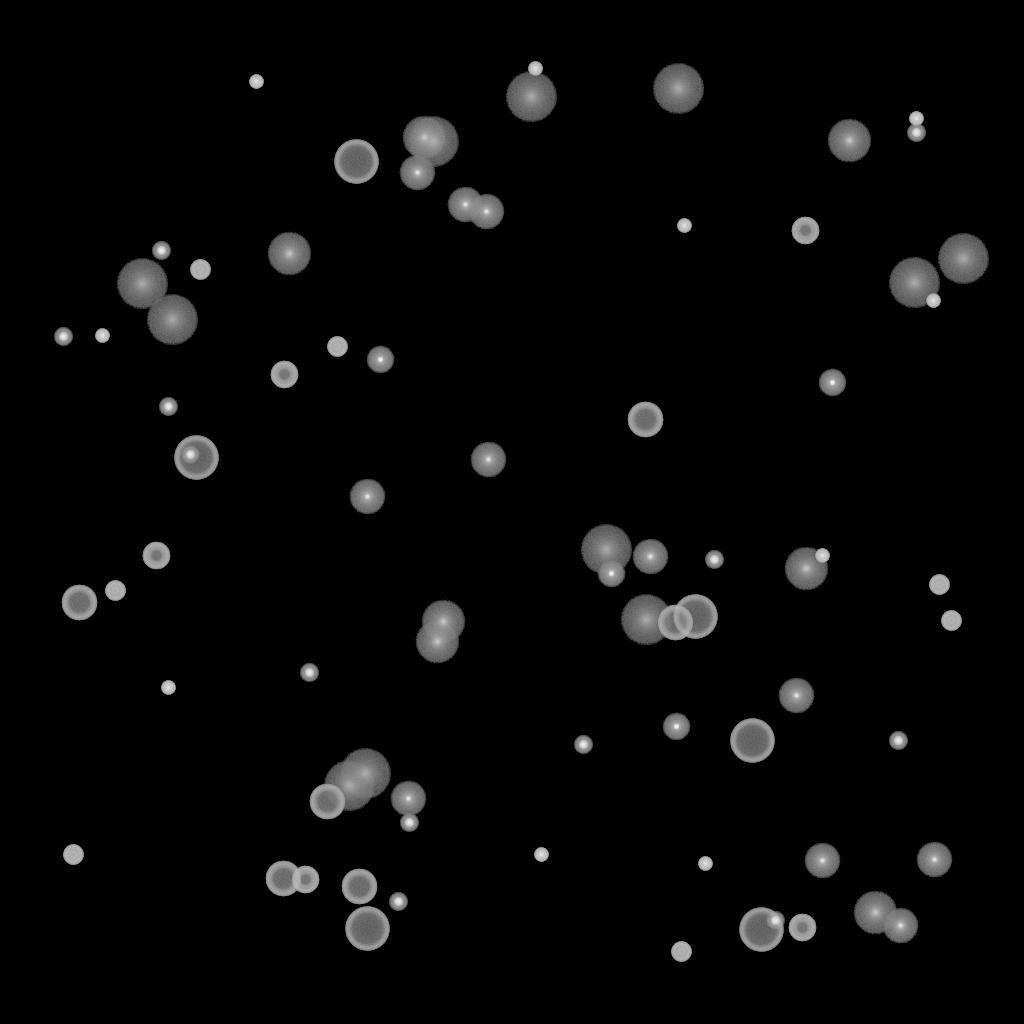depth:-10: (662, 713, 690, 741), (597, 560, 625, 588), (366, 346, 394, 374), (818, 369, 846, 397)
depth:-20: (54, 328, 72, 346), (705, 551, 723, 569), (766, 912, 784, 930), (907, 124, 925, 142), (889, 732, 907, 750), (152, 242, 170, 260), (574, 736, 592, 754), (389, 893, 407, 911), (181, 446, 199, 464), (400, 814, 418, 832), (159, 398, 177, 416), (300, 664, 318, 682)
depth:-30: (528, 62, 542, 76), (698, 857, 712, 871), (909, 112, 923, 126), (95, 329, 109, 343), (815, 549, 829, 563), (534, 848, 548, 862), (677, 219, 691, 233), (926, 294, 940, 308), (161, 681, 175, 695), (249, 75, 263, 89)
depth:-40: (190, 260, 210, 280), (327, 337, 347, 357), (929, 575, 949, 595), (105, 581, 125, 601), (63, 845, 83, 865), (671, 942, 691, 962), (941, 611, 961, 631)
depth:-50: (142, 542, 170, 570), (791, 217, 819, 245), (291, 866, 319, 894), (788, 914, 816, 942), (270, 361, 298, 389)
depth:-60: (627, 402, 663, 438), (265, 861, 301, 897), (309, 784, 345, 820), (657, 605, 693, 641), (341, 869, 377, 905), (61, 585, 97, 621)
depth:-70: (739, 908, 783, 952), (174, 436, 218, 480), (673, 595, 717, 639), (334, 140, 378, 184), (730, 719, 774, 763), (345, 907, 389, 951)
depth:0: (468, 194, 504, 230), (349, 479, 385, 515), (916, 842, 952, 878), (804, 843, 840, 879), (390, 781, 426, 817), (632, 539, 668, 575), (447, 187, 483, 223), (470, 442, 506, 478), (399, 155, 435, 191), (882, 908, 918, 944), (778, 678, 814, 714)
depth:10: (853, 891, 897, 935), (784, 547, 828, 591), (402, 116, 446, 160), (827, 119, 871, 163), (267, 232, 311, 276), (421, 600, 465, 644), (415, 620, 459, 664)
depth:20: (339, 749, 391, 799), (407, 117, 459, 167), (888, 258, 940, 308), (323, 761, 375, 811), (620, 595, 672, 645), (652, 64, 704, 114), (116, 259, 168, 309), (580, 525, 632, 575), (505, 72, 557, 122), (937, 234, 989, 284), (146, 295, 198, 345)
